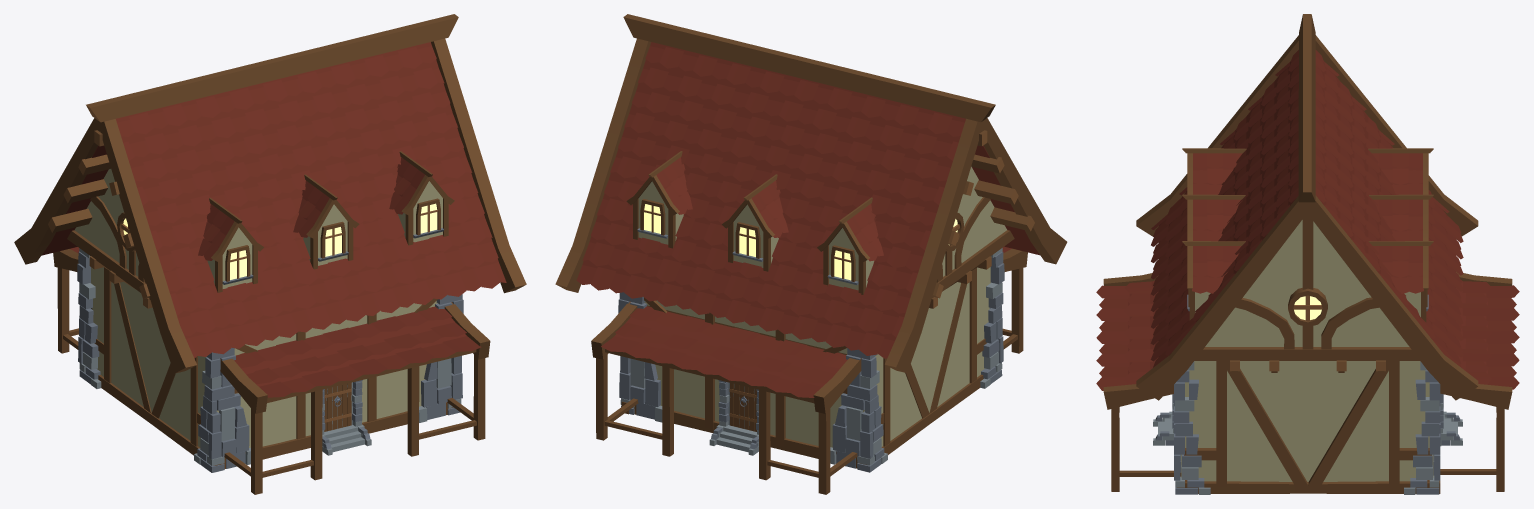
Rendered from Inn.glb.
The picture shows the model from 3 angles, left to right: view 1: azimuth 30°, elevation 25°; view 2: azimuth 150°, elevation 25°; view 3: azimuth 270°, elevation 25°; orthographic projection.
Visible parts, largest first — view 1: Inn; view 2: Inn; view 3: Inn.
Boxes of the visible parts, left/top/right/bottom form: Inn: left=14, top=14, right=526, bottom=494; Inn: left=555, top=14, right=1067, bottom=494; Inn: left=1096, top=14, right=1519, bottom=494.
Size of the model in its own units: 4.03 by 3.49 by 4.02.
